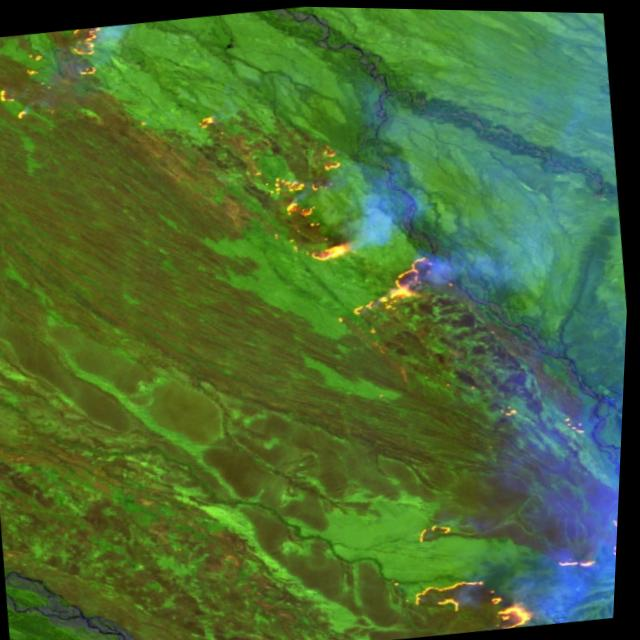fire: (187, 89, 359, 275), (0, 23, 120, 130), (333, 247, 461, 339), (403, 560, 547, 638), (552, 485, 623, 572), (412, 509, 470, 550)
